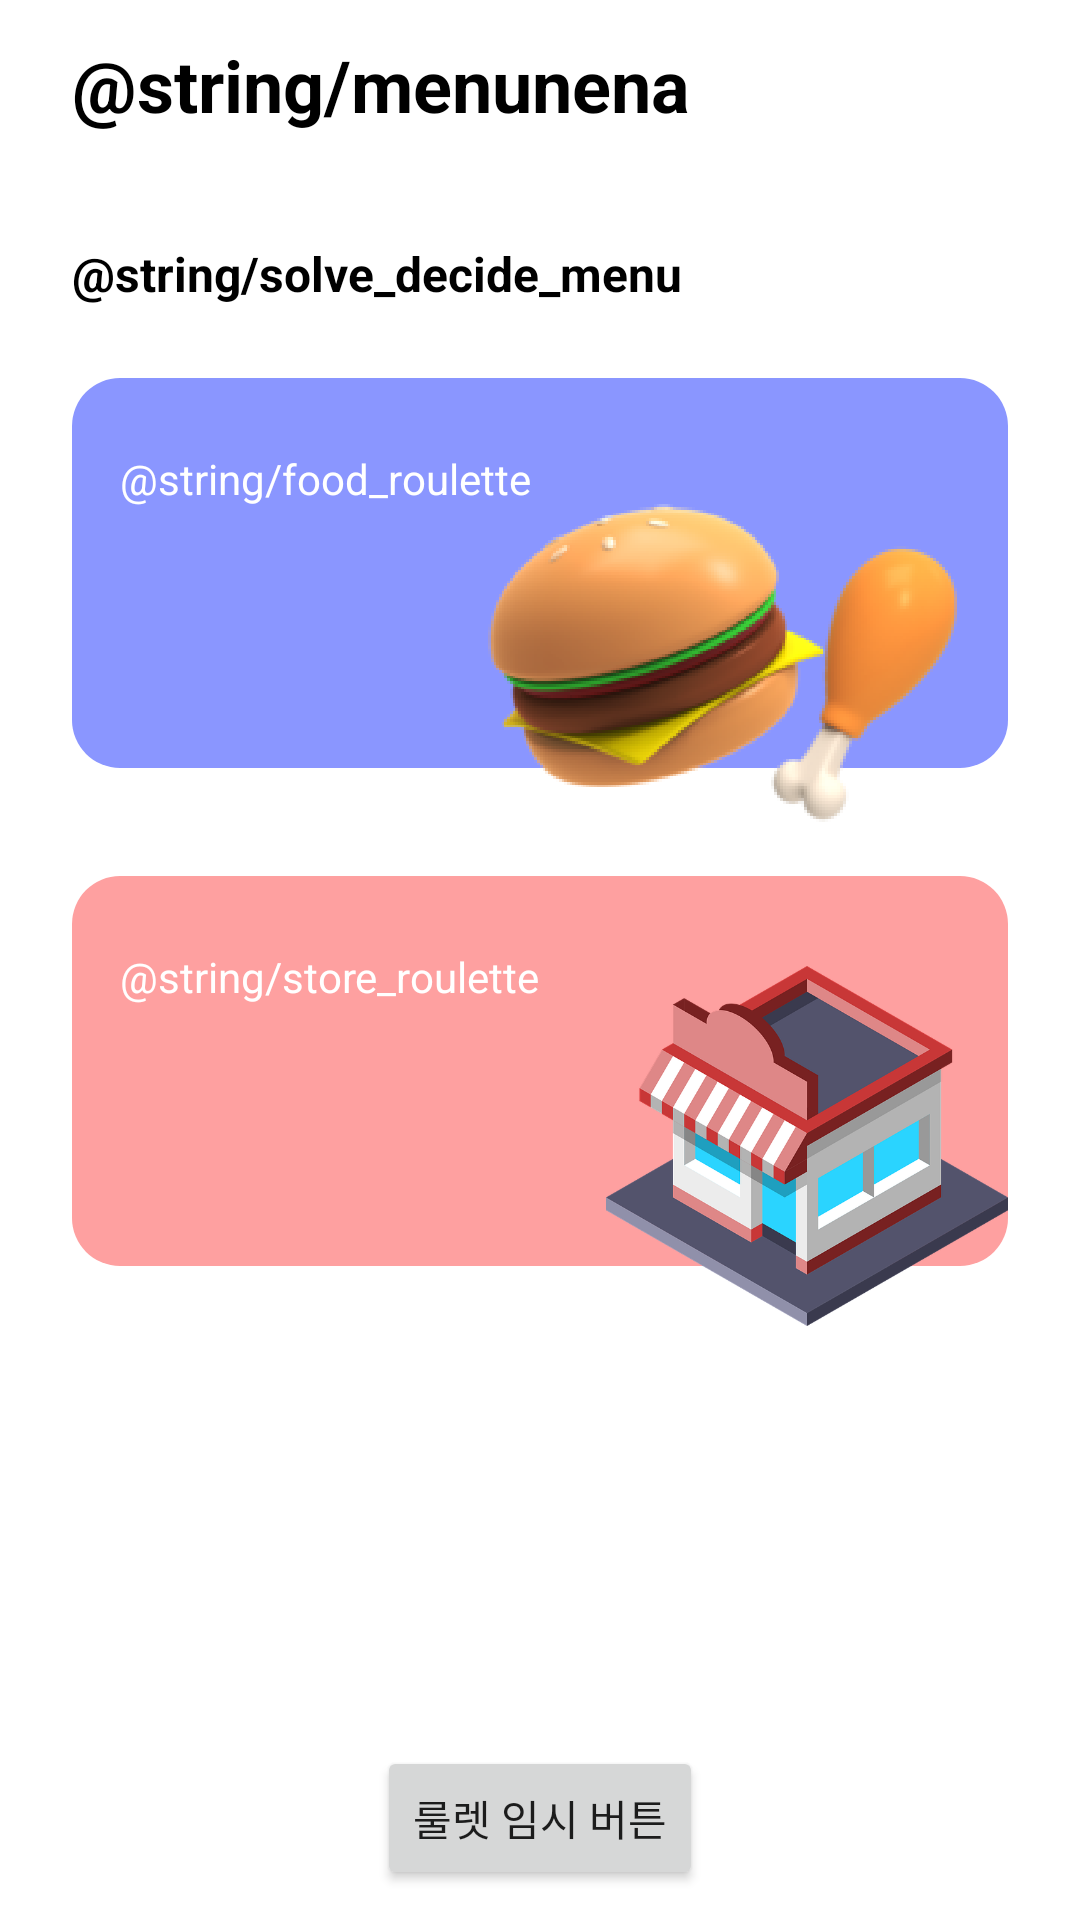

Icon click points for this 1080x1920 phone screenshot, format (x,y):
burger: (654,654)
chicken: (864,684)
